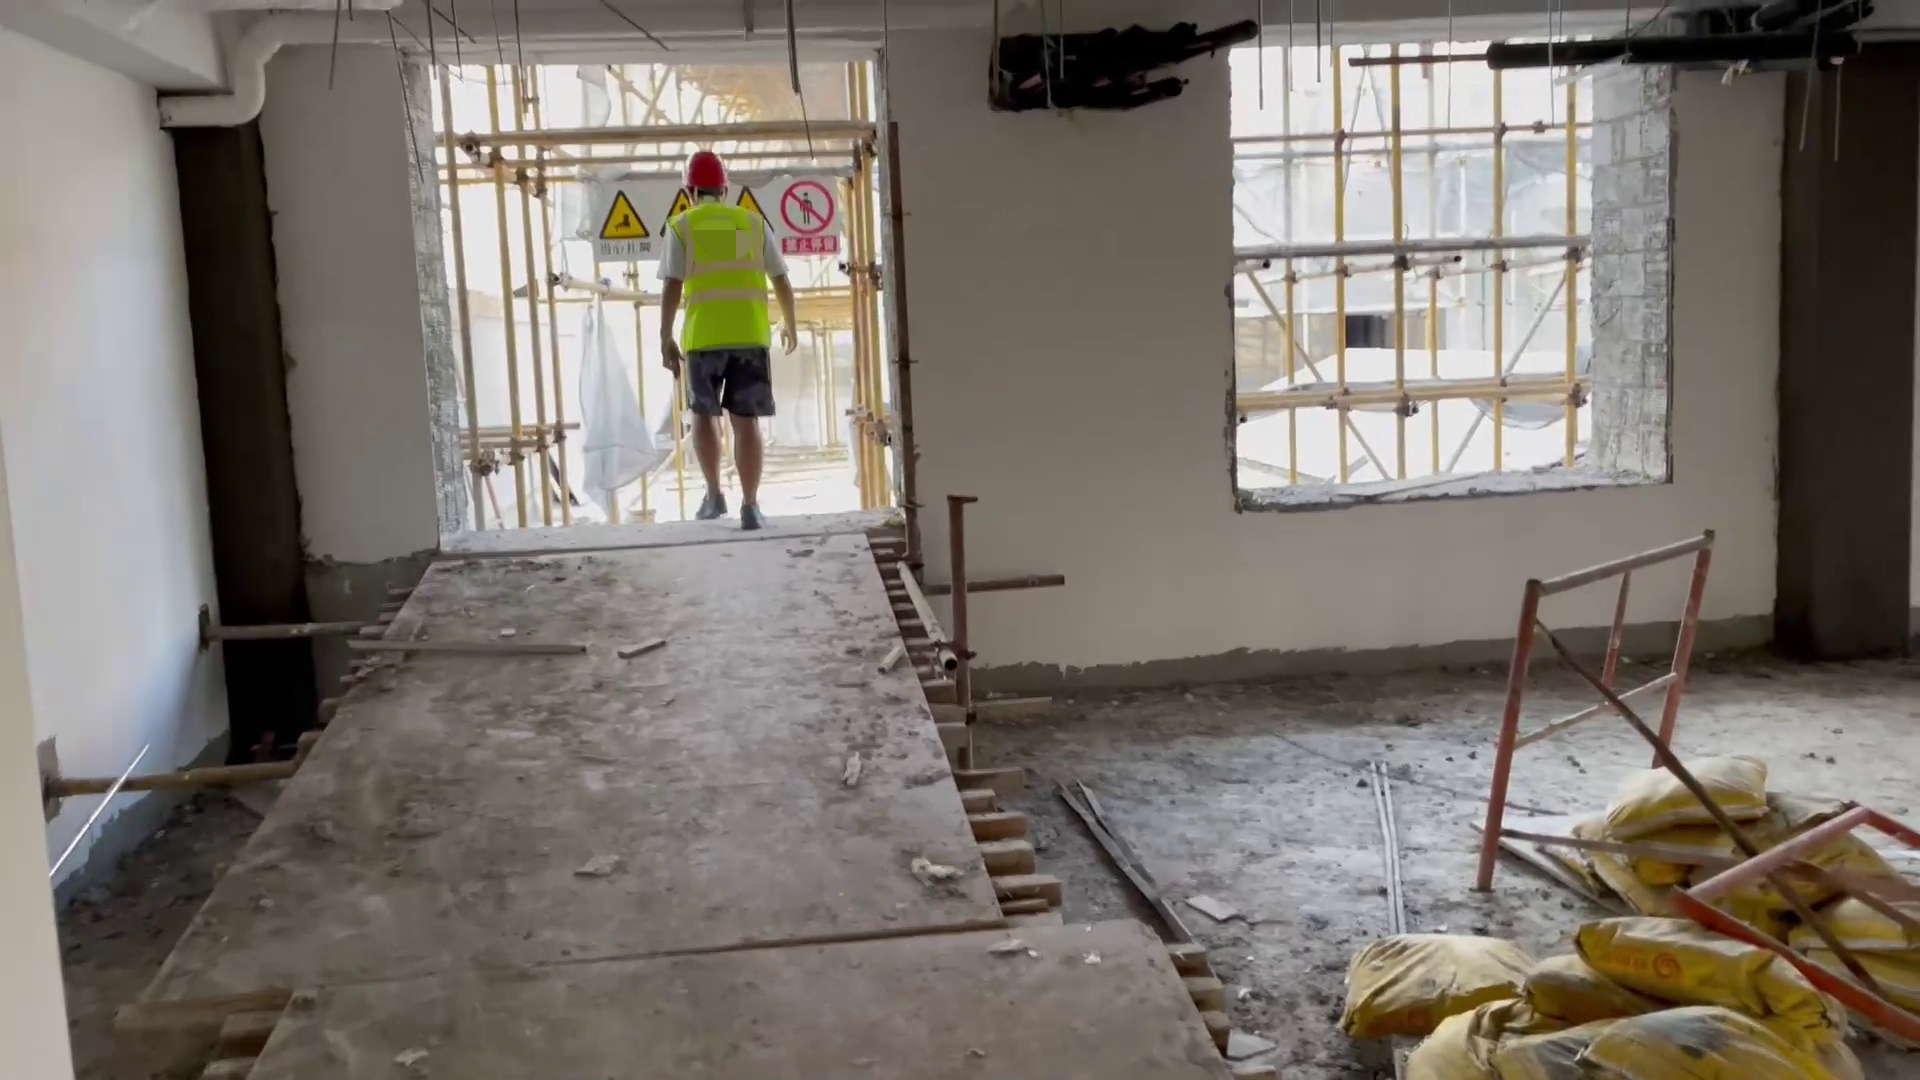helmet: (679, 148, 731, 188)
person: (639, 149, 782, 538)
vest: (670, 206, 777, 356)
